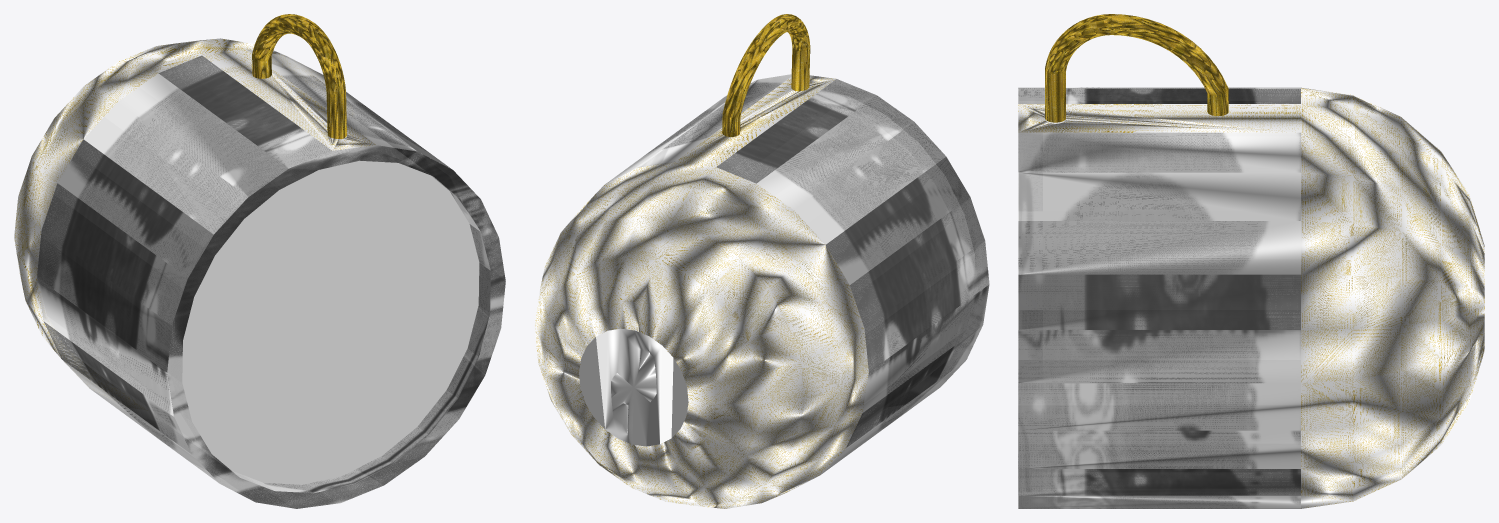
The model's file is model_align.obj.
3 renders of one model, left to right at view 1: azimuth 30°, elevation 25°; view 2: azimuth 150°, elevation 25°; view 3: azimuth 270°, elevation 25°, orthographic. The views are drawn at different scales.
Bounding box in the file's own units: 0.0896 × 0.1129 × 0.0986.
